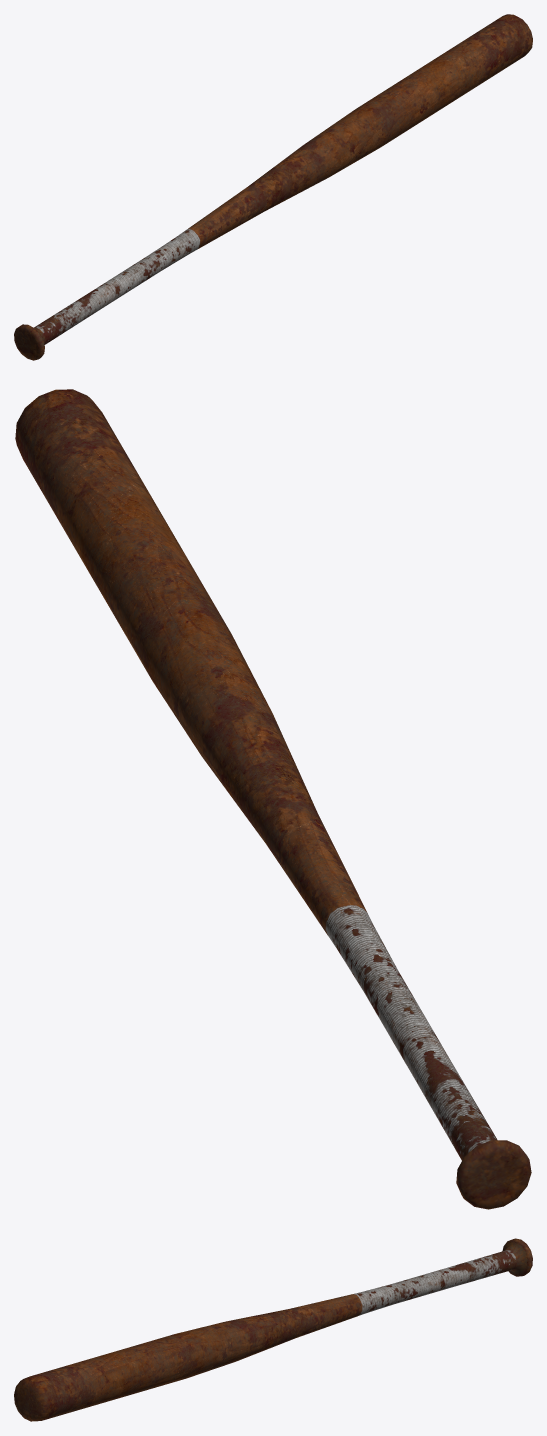
File: Anim_idle_bate_objetos.0042.obj
The picture shows the model from 3 angles, top to bottom: view 1: azimuth 90°, elevation 25°; view 2: azimuth 150°, elevation 25°; view 3: azimuth 270°, elevation 25°; orthographic projection. The views are drawn at different scales.
Parts seen in each view (by area): view 1: Bate1; view 2: Bate1; view 3: Bate1.
Boxes of the visible parts, bbox=[...] form: Bate1: bbox=[14, 14, 532, 360]; Bate1: bbox=[15, 389, 531, 1209]; Bate1: bbox=[14, 1238, 532, 1421].
Bounding box in the file's own units: 4.08 × 0.9627 × 3.76.
